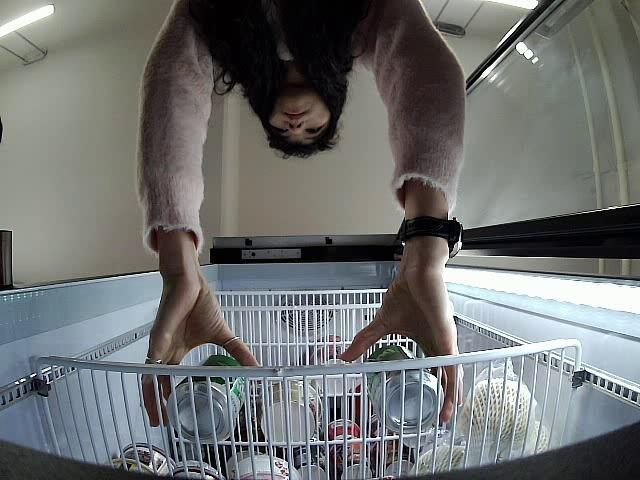12_chilsungCider: (170, 352, 250, 444), (362, 346, 446, 432)
